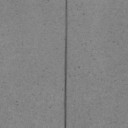surface scratch: (64, 0, 68, 128)
